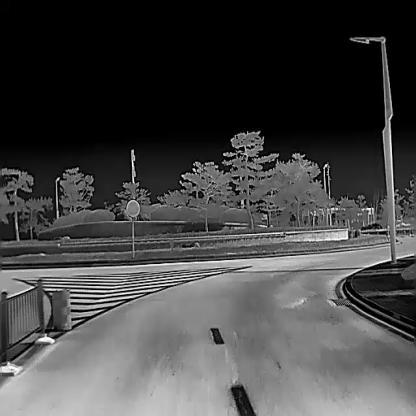car: (360, 223, 381, 231)
